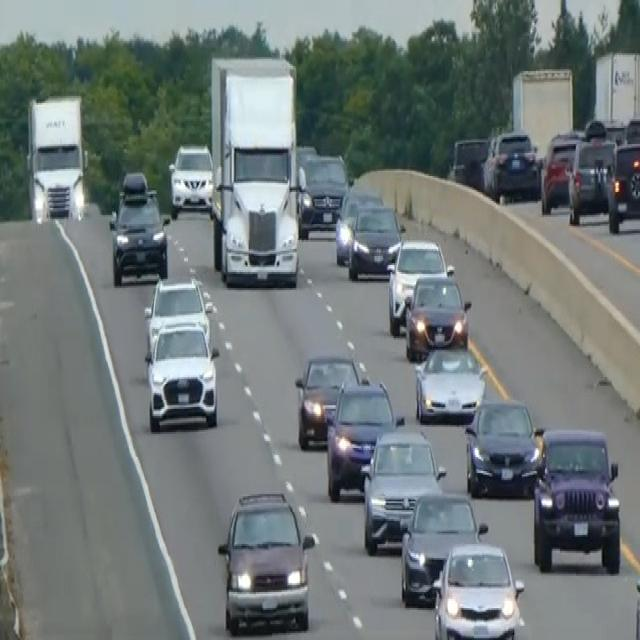car: (216, 487, 315, 635), (532, 425, 622, 572), (359, 425, 446, 553), (399, 489, 488, 606), (325, 375, 403, 500), (432, 539, 525, 638), (144, 316, 219, 431), (463, 394, 544, 498), (294, 350, 364, 450), (386, 236, 451, 334), (413, 341, 487, 423), (404, 269, 471, 359), (143, 274, 212, 357), (297, 151, 349, 237), (567, 133, 616, 224), (347, 201, 402, 281), (483, 128, 540, 203), (334, 185, 382, 265), (539, 130, 583, 213), (168, 140, 214, 217), (607, 139, 639, 233), (450, 134, 490, 188)
jeep: (107, 169, 170, 286)
lorry: (208, 53, 301, 288), (25, 89, 88, 226)
